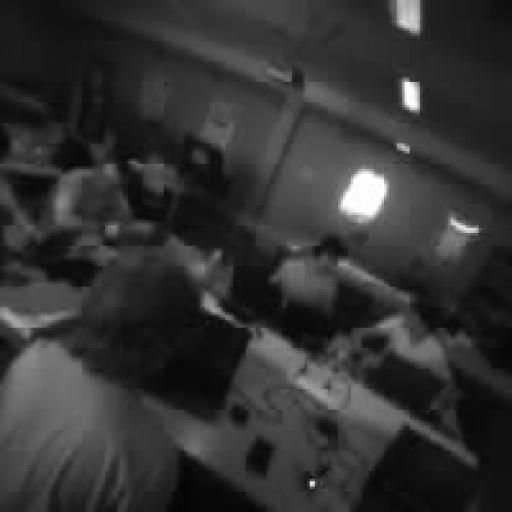human: (0, 249, 199, 511), (49, 162, 151, 243), (354, 300, 450, 381), (269, 236, 348, 314), (70, 62, 115, 161), (0, 177, 38, 268)
